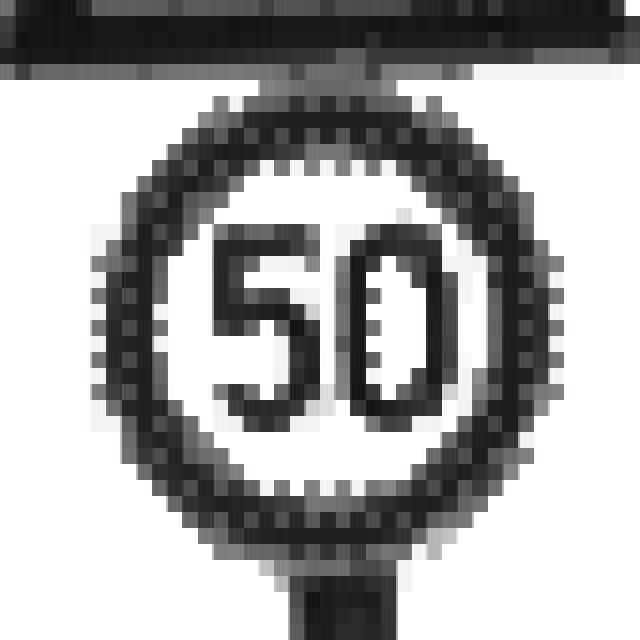50 kph: (92, 80, 534, 544)
